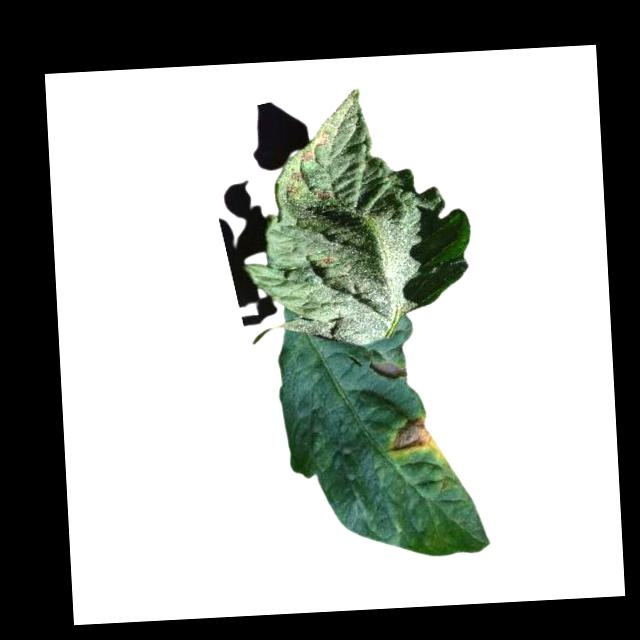Early_blight: (389, 415, 437, 452), (289, 168, 302, 183), (315, 188, 332, 199), (299, 149, 313, 162), (283, 181, 297, 192)
